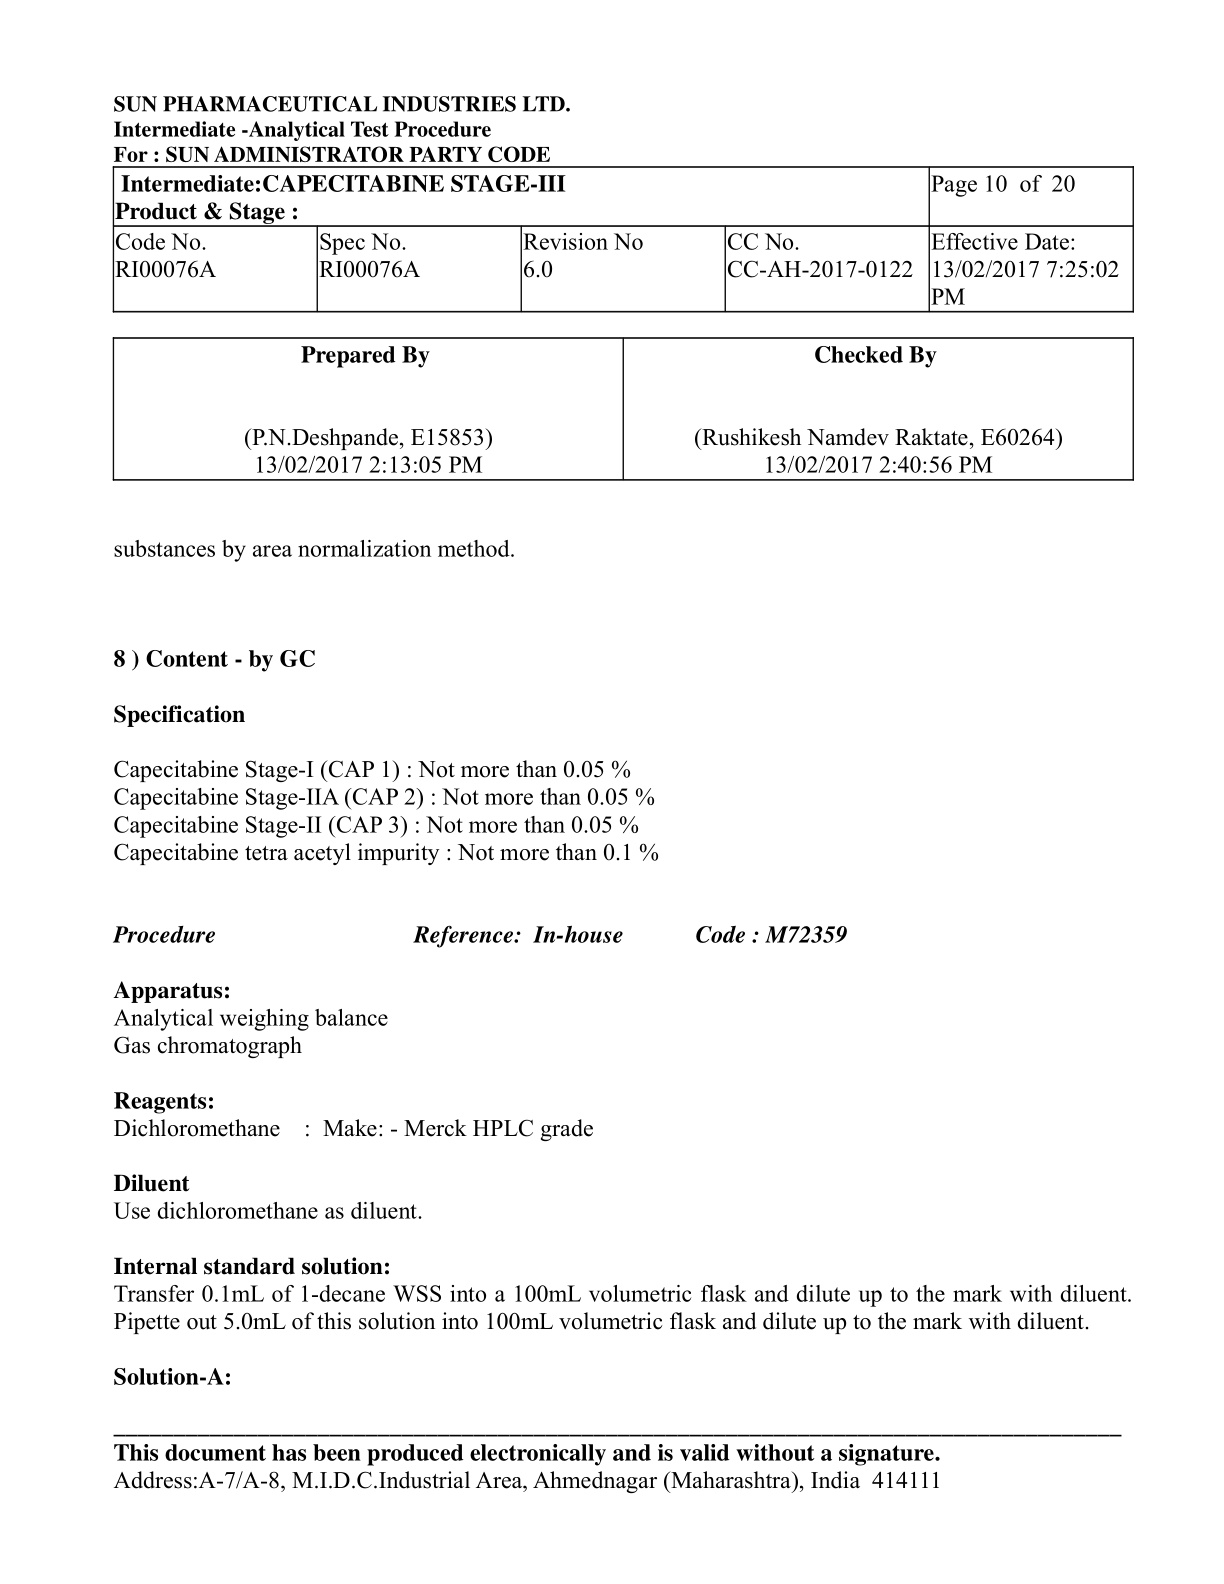full_lined: (111, 336, 1135, 481)
merged_cells: (111, 165, 1135, 312)
